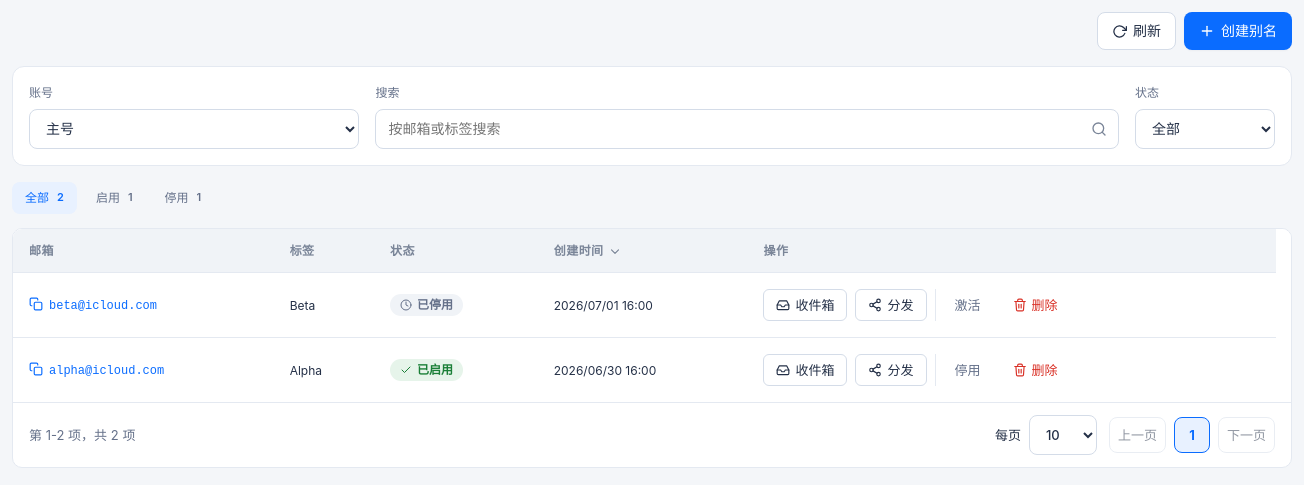
Test: AliasesPage › 按 email/label 大小写不敏感搜索与 active 状态筛选
The width and height of the screenshot is (1304, 485).
Expected: the button "alpha@icloud.com" is shown, [29,362,164,381]
Type "ALPHA" into the search field labelled "搜索".
click(747, 129); type("ALPHA")  # box [376,109,1119,149]
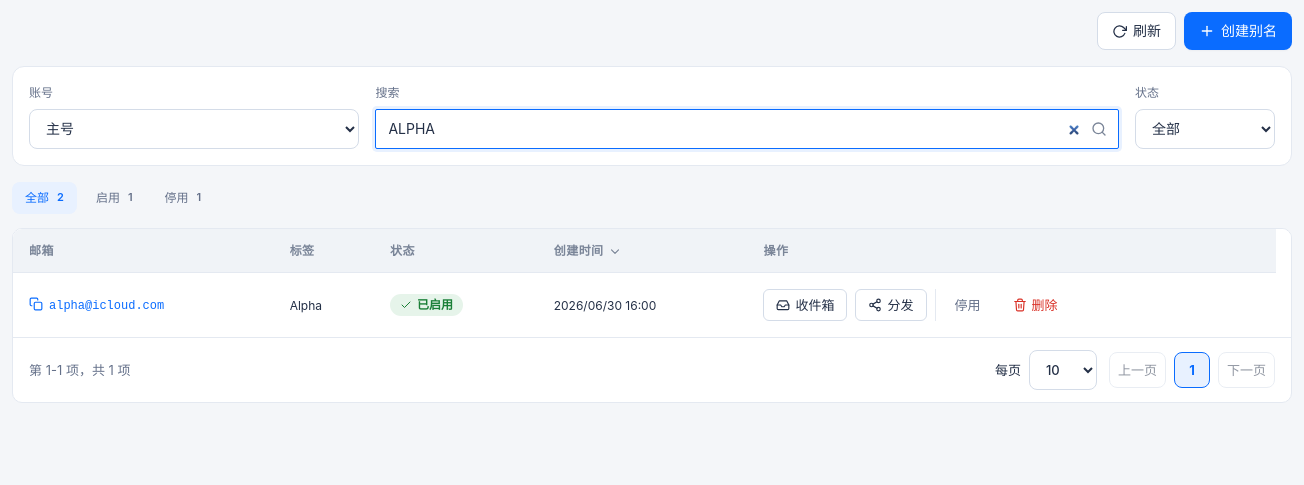
Expected: the button "alpha@icloud.com" is shown, [29,297,164,316]
Expected: the button "beta@icloud.com" is gone
Clear the search field labelled "搜索" at (747, 129), box [376,109,1119,149]
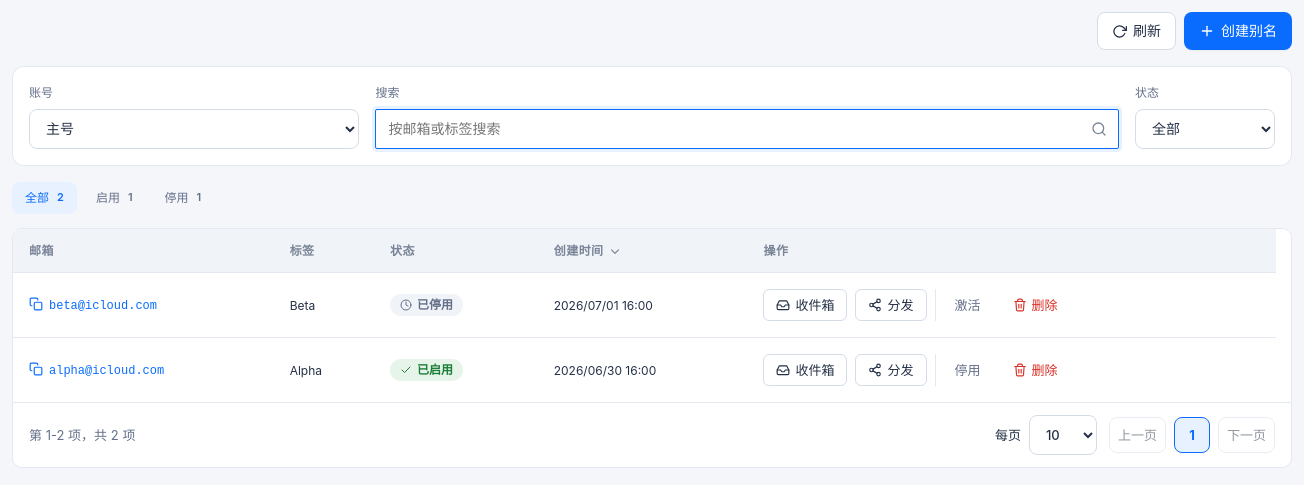
Select "已启用" in the dropdown labelled "状态" at (1205, 129), box [1135,109,1275,149]
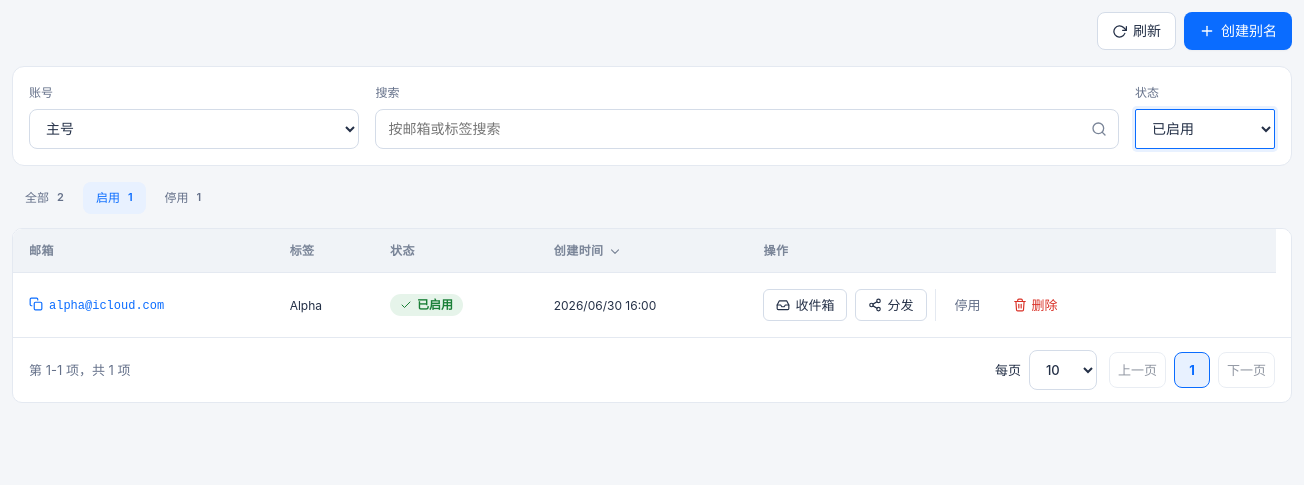
Expected: the button "alpha@icloud.com" is shown, [29,297,164,316]
Expected: the button "beta@icloud.com" is gone
